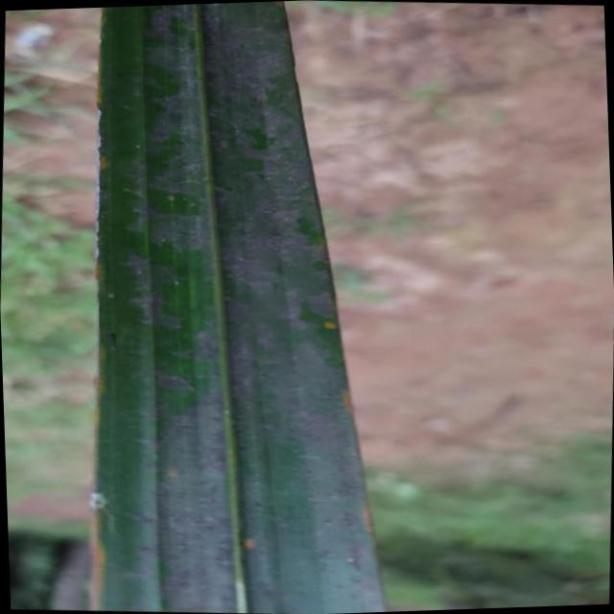Kalium: (95, 0, 385, 614)
